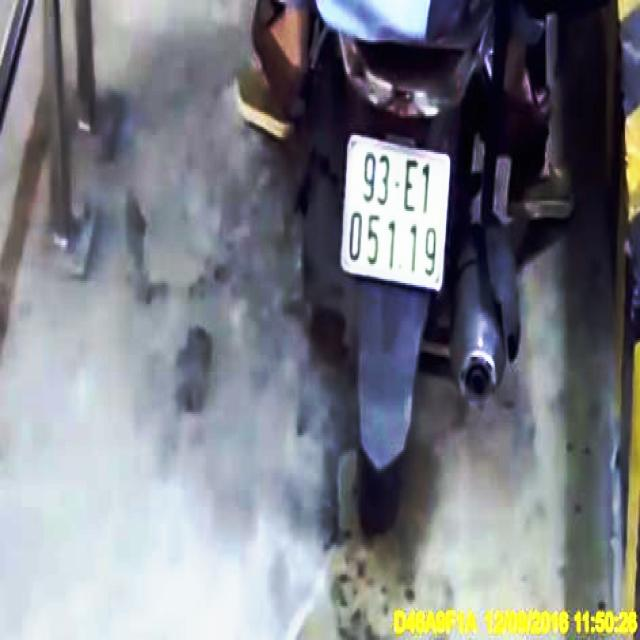license_plate: (342, 134, 451, 292)
